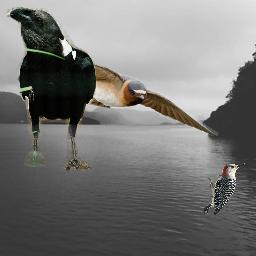Crow: (5, 7, 96, 171)
Swallow: (19, 33, 219, 136)
Woodpecker: (204, 163, 245, 215)
